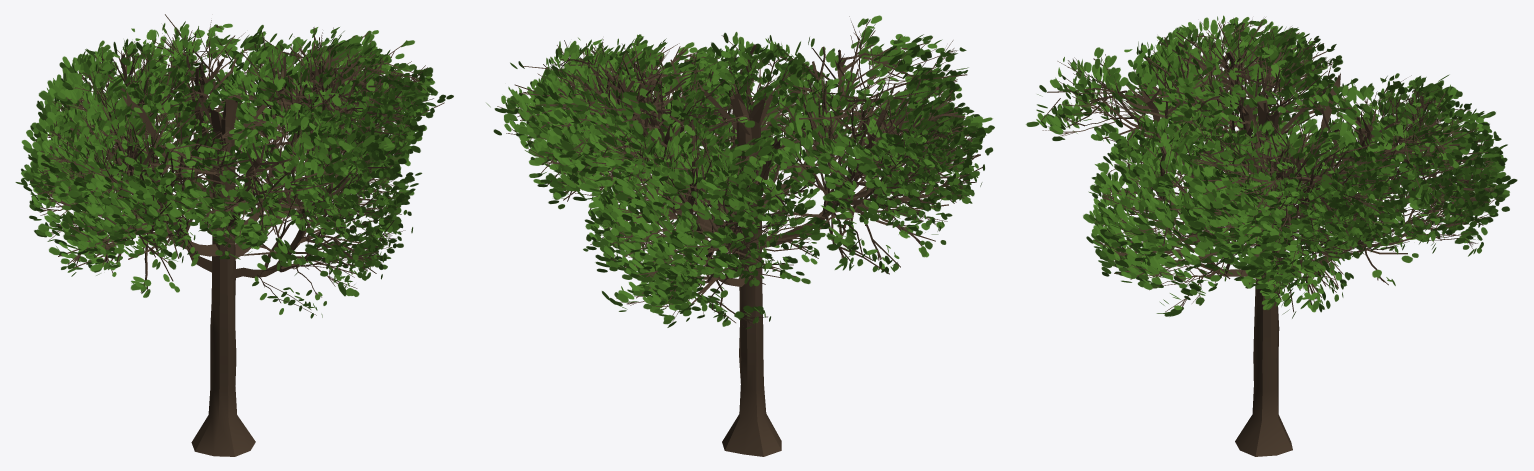
The picture shows the model from 3 angles, left to right: view 1: azimuth 30°, elevation 25°; view 2: azimuth 150°, elevation 25°; view 3: azimuth 270°, elevation 25°; orthographic projection. The views are drawn at different scales.
Parts seen in each view (by area): view 1: oak 01.001_trunk_Mat.001_0.044; view 2: oak 01.001_trunk_Mat.001_0.044; view 3: oak 01.001_trunk_Mat.001_0.044.
Boxes of the visible parts, x1,y1,x2,y2 form: oak 01.001_trunk_Mat.001_0.044: (15, 14, 453, 456); oak 01.001_trunk_Mat.001_0.044: (486, 15, 994, 456); oak 01.001_trunk_Mat.001_0.044: (1026, 15, 1517, 456).
Bounding box in the file's own units: 4.55 × 3.71 × 4.67.
2 materials, 1 textured.
